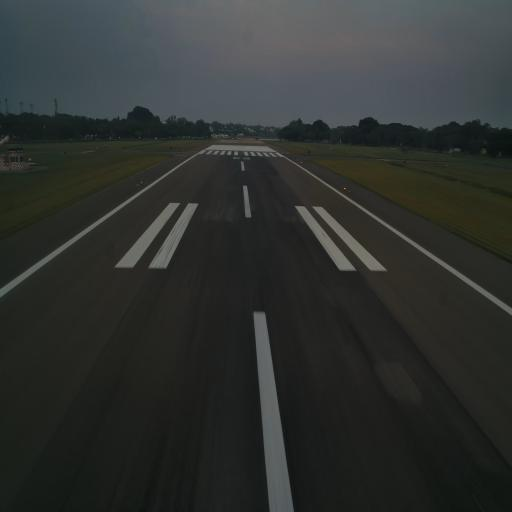on: (140, 179, 144, 185), (343, 185, 346, 192)
